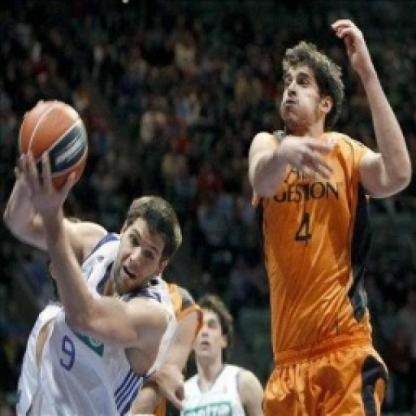basketball: (13, 93, 97, 198)
